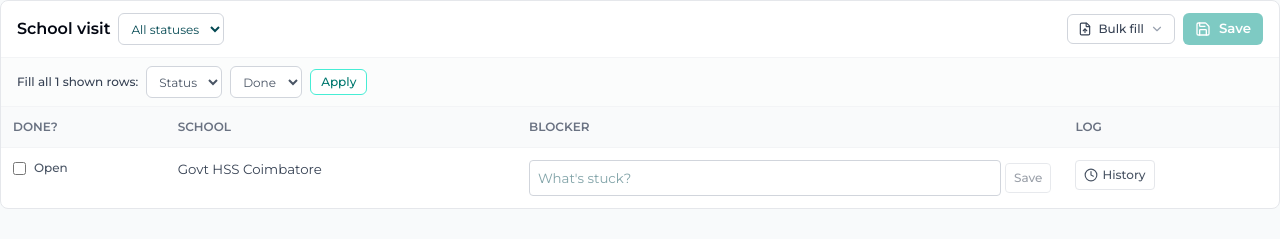
grid toolbar — bulk fill menu › keeps the template downloads inside the Bulk fill menu until it is opened
Expected: the menu item "CSV" is not shown
Click the button "Bulk fill".
click(1121, 29)  # box [1067, 14, 1175, 44]
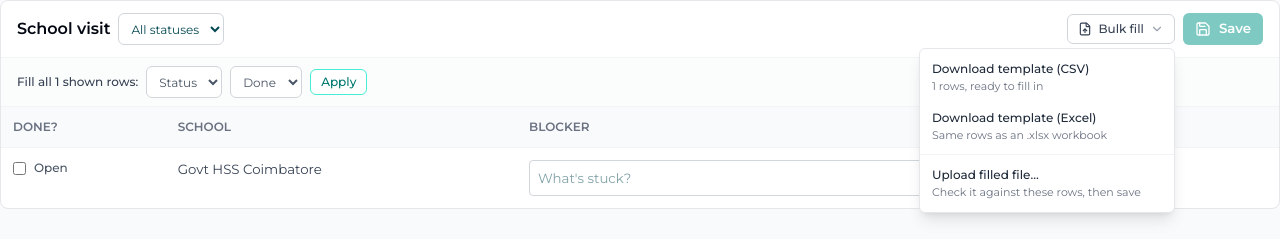
Now the menu item "Download template (CSV) 1 rows, ready to fill in" is shown, box [920, 53, 1174, 102]
Now the menu item "Download template (Excel) Same rows as an .xlsx workbook" is shown, box [920, 102, 1174, 150]
Now the menu item "Upload filled file… Check it against these rows, then save" is shown, box [920, 159, 1174, 208]
